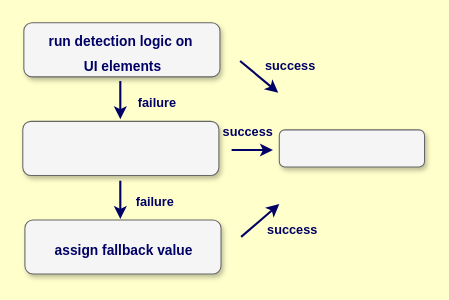
The diagram is 449 pixels wide and 300 high, and some of its shapes have lost their labels. The centre of each missing label's shape, as x and y in pixels:
return output: point (352, 149)
run detection logic on message: point (121, 149)
